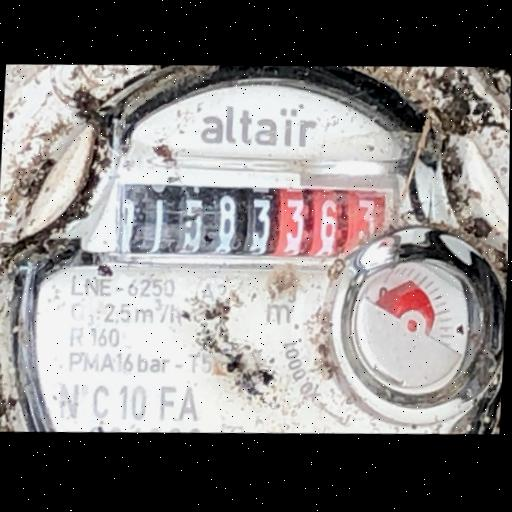0: (114, 182, 143, 252)
1: (141, 182, 180, 254)
3: (345, 186, 386, 256), (244, 185, 281, 257), (278, 186, 315, 258)
5: (176, 183, 213, 255)
6: (312, 185, 349, 256)
8: (210, 183, 247, 255)
border_water_meter_number: (111, 156, 402, 267)
